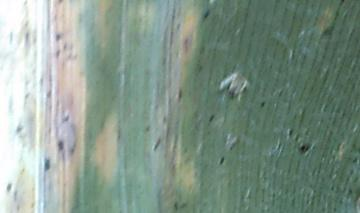tarspot: (52, 137, 69, 155), (296, 140, 313, 155), (39, 156, 53, 173), (257, 99, 269, 109)
